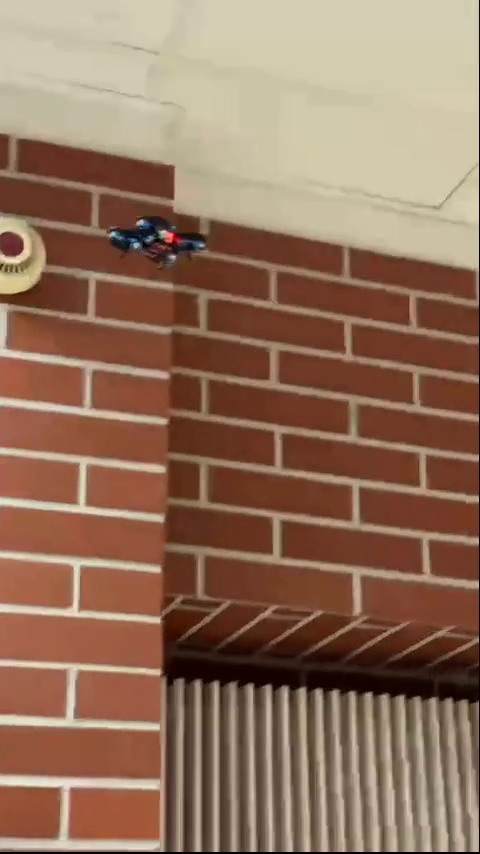drone: (102, 211, 212, 268)
